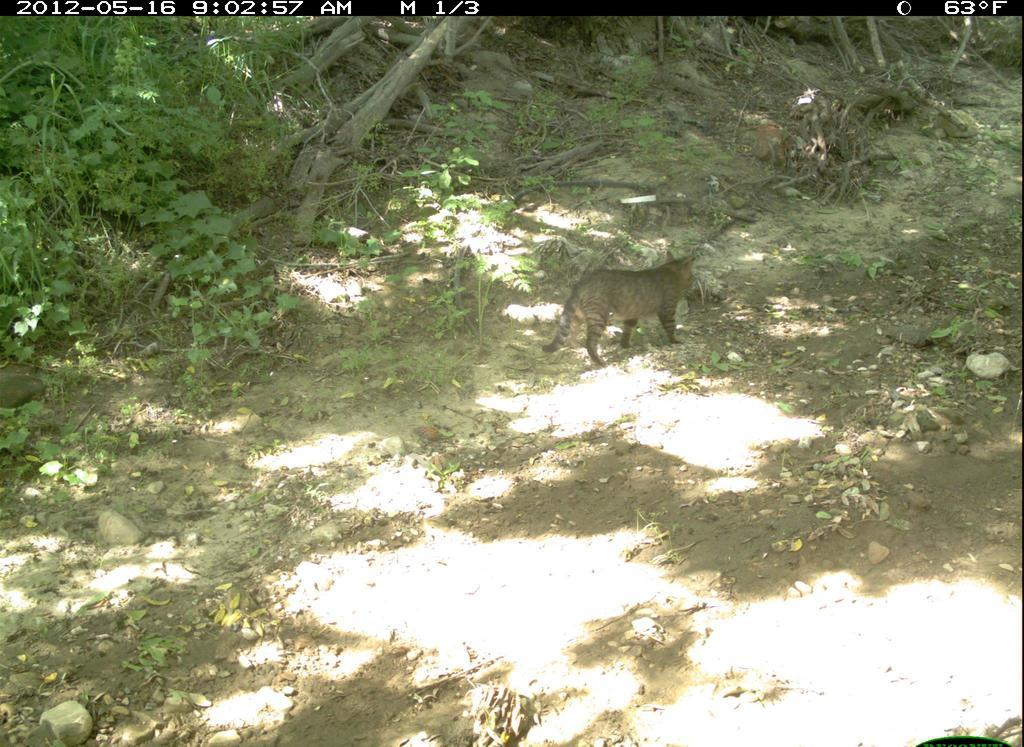cat: (541, 244, 716, 374)
